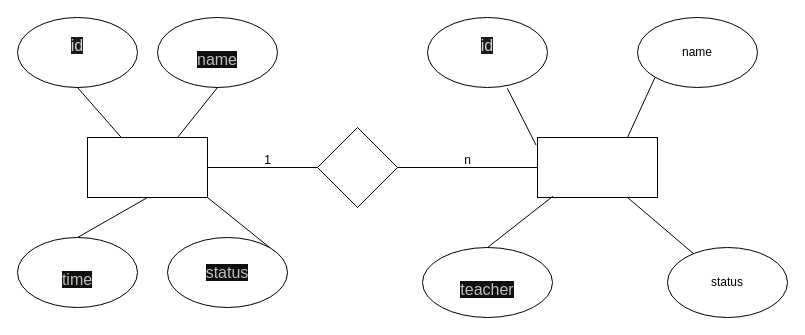
This 805x335 diagram has some shape labels left out. Each missing label, with the centre of its shape:
Course: the point at 147,167
Subject: the point at 597,167
